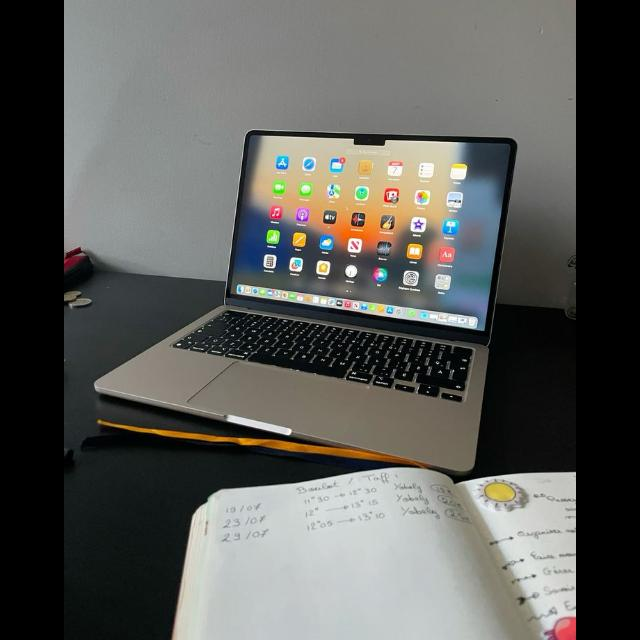laptop: (95, 130, 515, 472)
